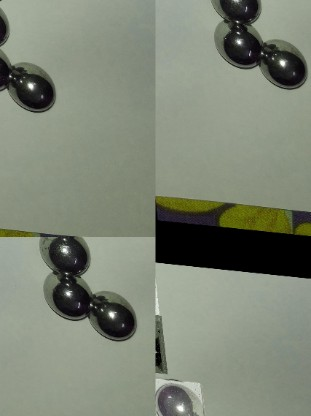ironball: (7, 58, 60, 118), (205, 20, 267, 71), (263, 36, 309, 95), (88, 290, 138, 343), (39, 271, 93, 320), (34, 234, 97, 274), (155, 375, 200, 415), (204, 0, 265, 22)
